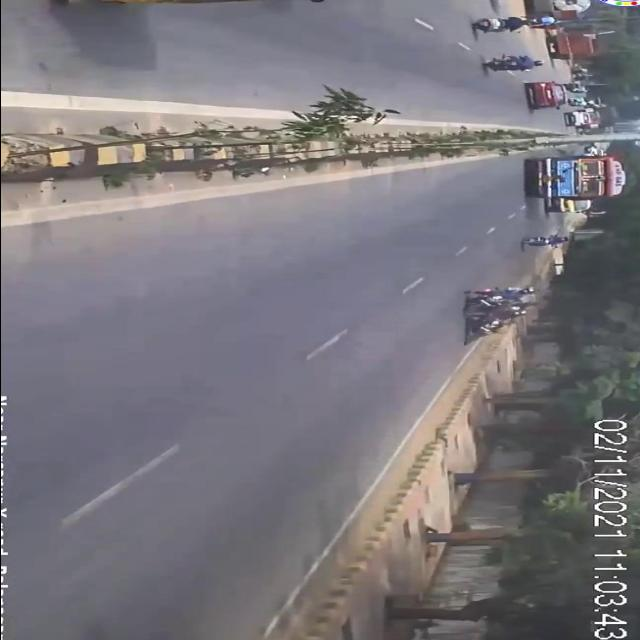accident: (443, 285, 547, 346)
non_accident: (519, 150, 633, 216), (557, 104, 621, 131)
